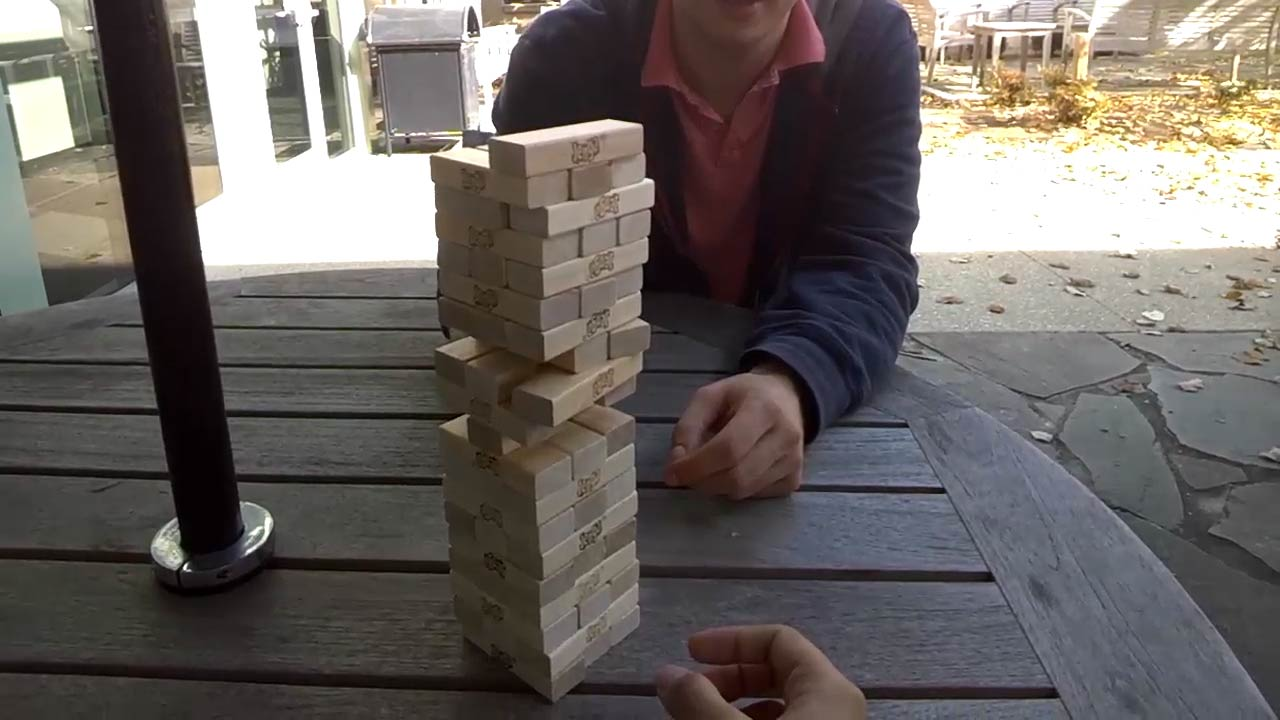hand: (655, 628, 875, 717), (665, 367, 801, 503)
